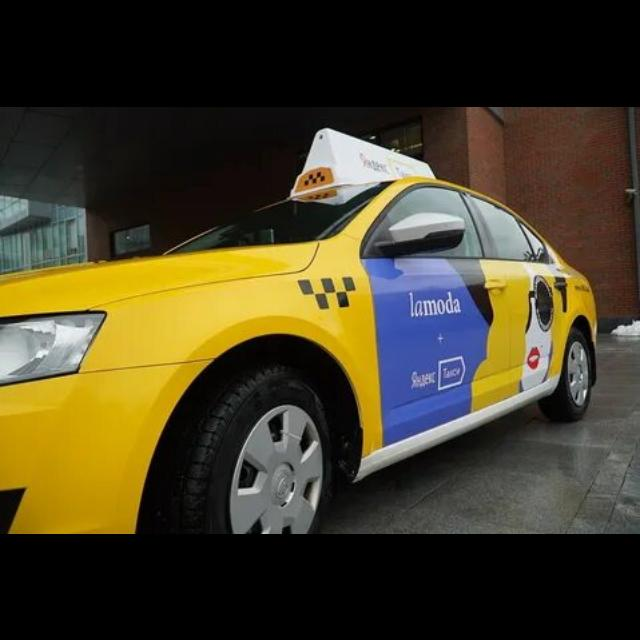taxi: (1, 126, 599, 533)
